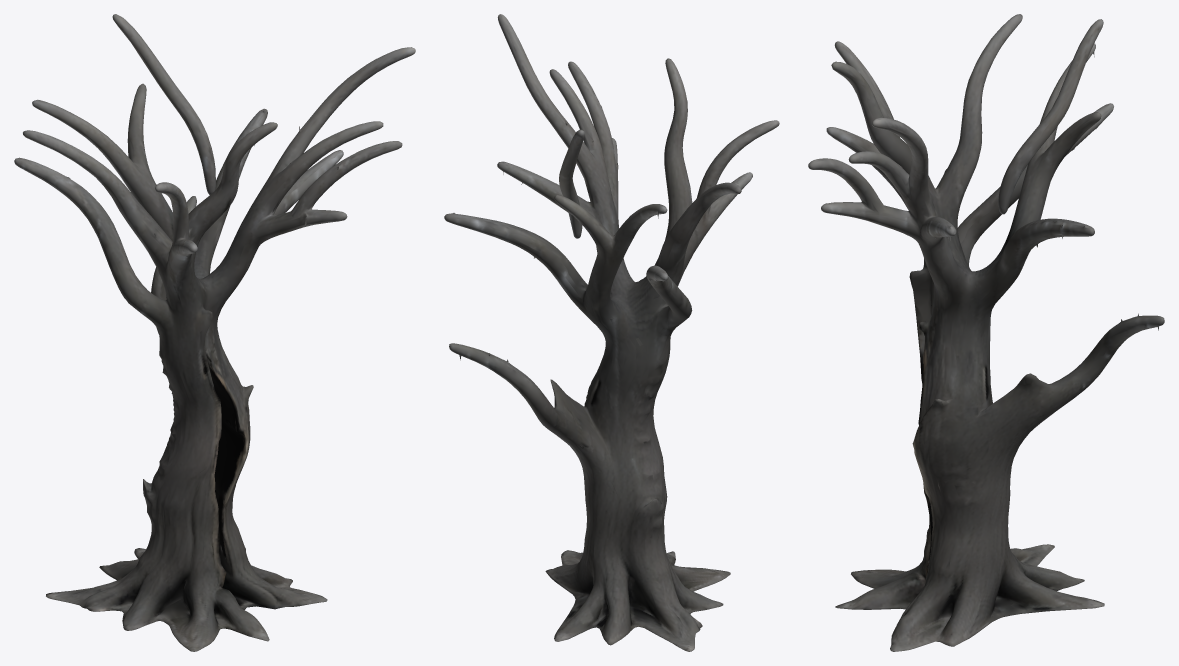
File: willow_clean.glb
3 renders of one model, left to right at view 1: azimuth 30°, elevation 25°; view 2: azimuth 150°, elevation 25°; view 3: azimuth 270°, elevation 25°, orthographic. The views are drawn at different scales.
Parts seen in each view (by area): view 1: node_0; view 2: node_0; view 3: node_0.
Boxes of the visible parts, box(x1,y1,x2,y2) form: node_0: box(14, 14, 415, 651); node_0: box(444, 14, 779, 651); node_0: box(808, 14, 1164, 651).
Size of the model in its own units: 0.5345 by 0.8554 by 0.4819.
Materials: 1 (1 with a texture image).
